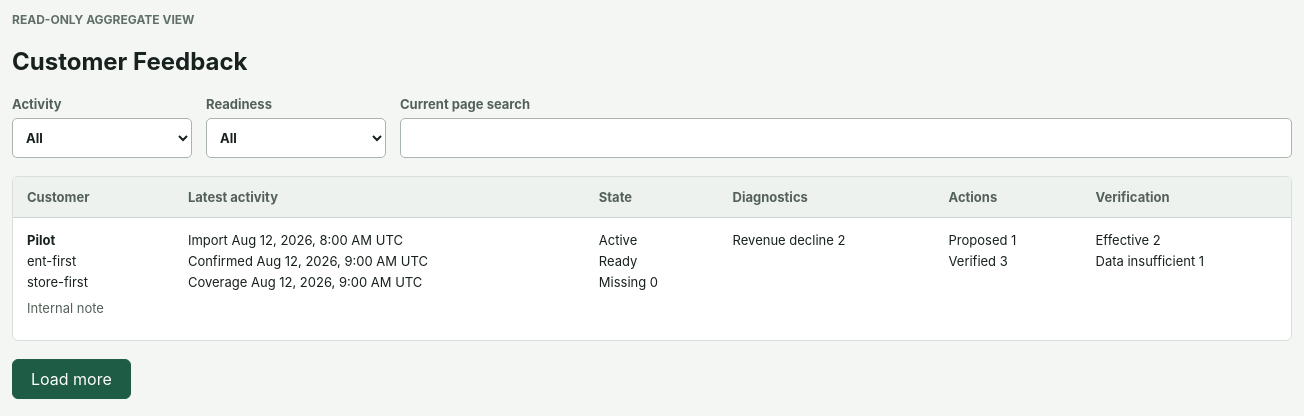
Test: read-only feedback workbench › discards a pending pagination response after server filters reset the page
Click the button "Load more" at [71, 379], box [12,359,131,399]
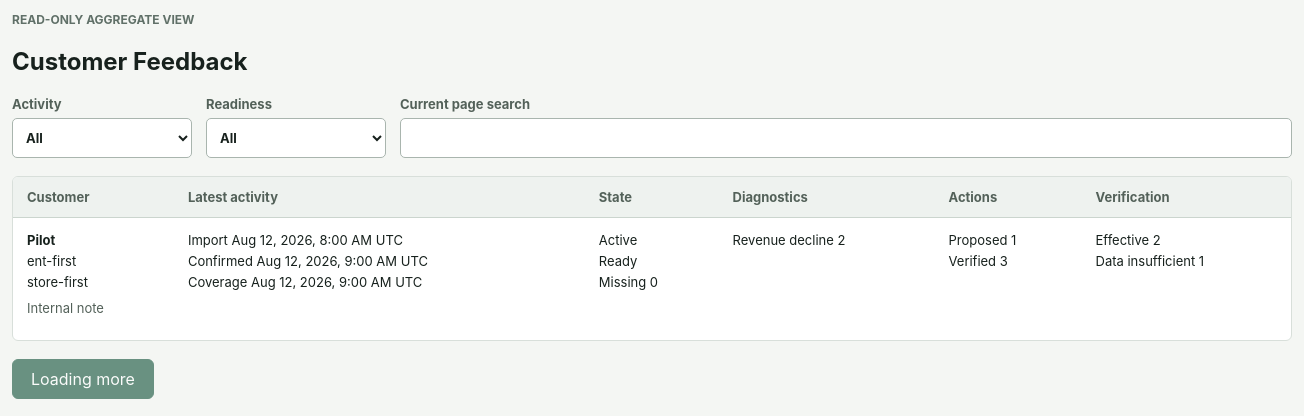
Select "Stale" in the dropdown labelled "Activity" at [102, 138], box [12,118,192,158]
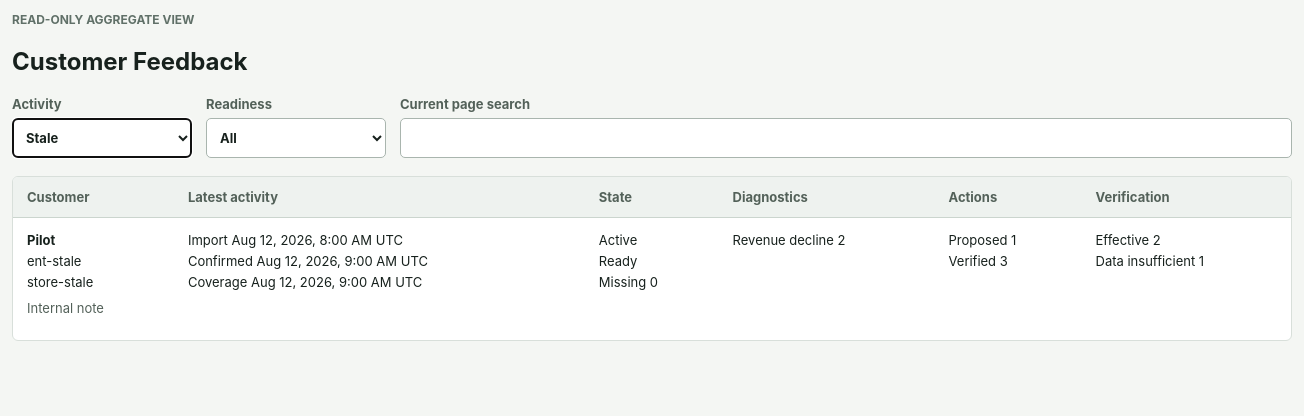
Result: the text "ent-stale" is shown at [27,253,82,269]
